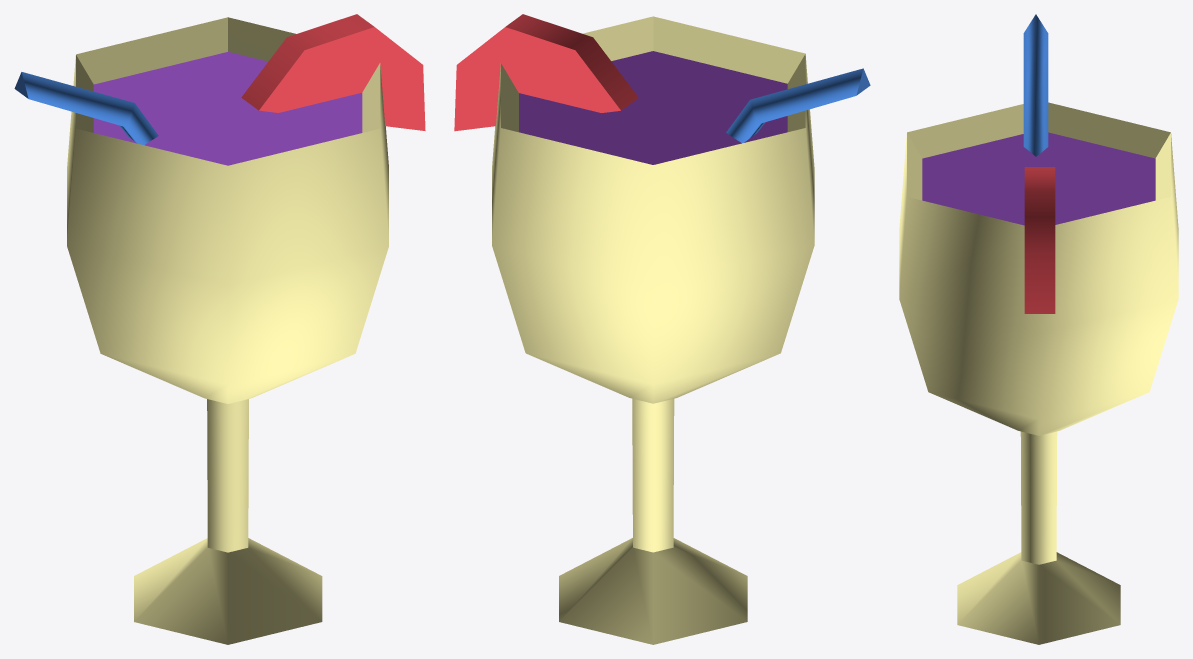
The model's file is Drink_03.fbx.
The picture shows the model from 3 angles, left to right: view 1: azimuth 30°, elevation 25°; view 2: azimuth 150°, elevation 25°; view 3: azimuth 270°, elevation 25°; orthographic projection. The views are drawn at different scales.
Parts seen in each view (by area): view 1: Drink_03; view 2: Drink_03; view 3: Drink_03.
Part boxes in pixels (x1=…): Drink_03: x1=14, y1=14, x2=425, y2=644; Drink_03: x1=454, y1=14, x2=870, y2=644; Drink_03: x1=899, y1=14, x2=1178, y2=644.
Size of the model in its own units: 142 by 198 by 99.79.
